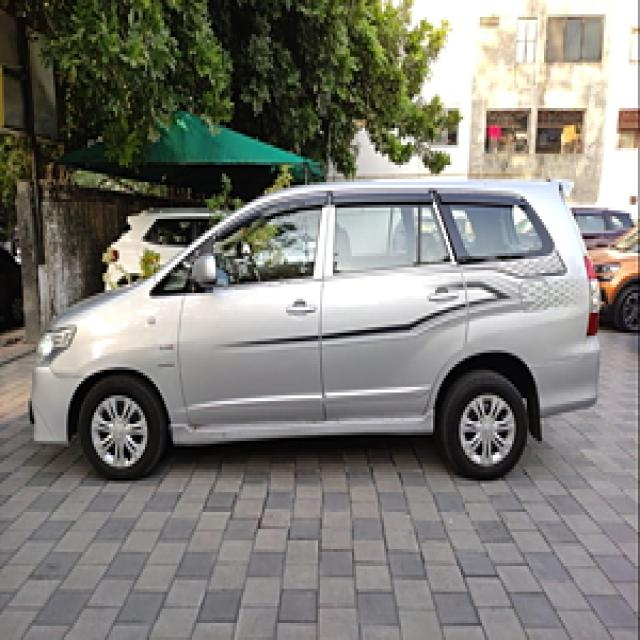light_vehicle: (27, 178, 604, 485)
